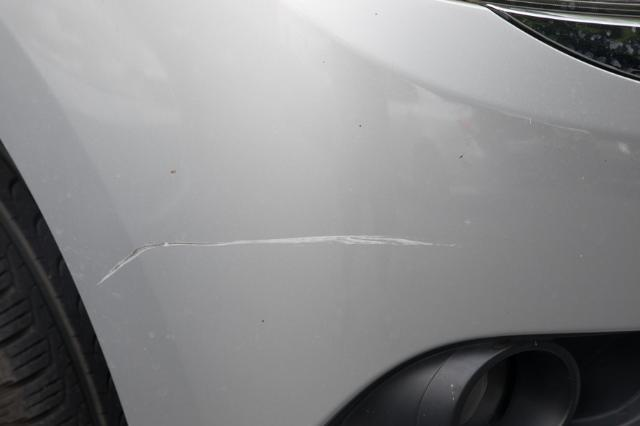Bumper: (91, 189, 472, 334)
